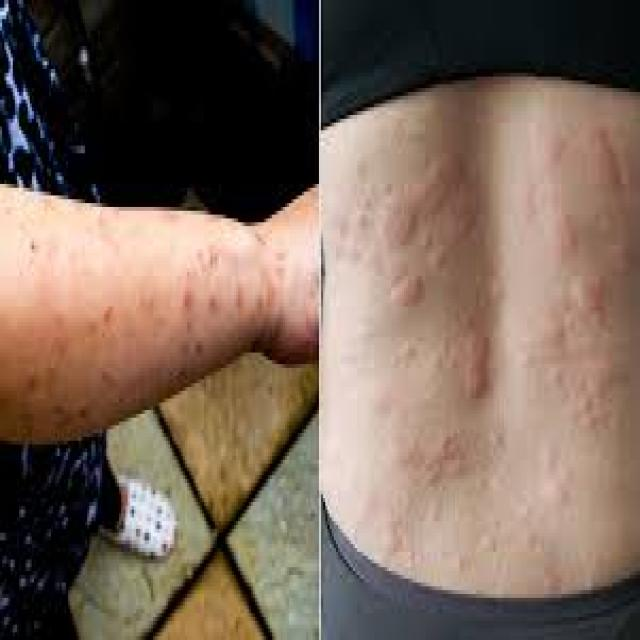kan emici bocekler: (525, 121, 631, 409), (382, 153, 473, 296), (515, 453, 579, 589), (398, 431, 473, 495), (459, 337, 502, 397)
